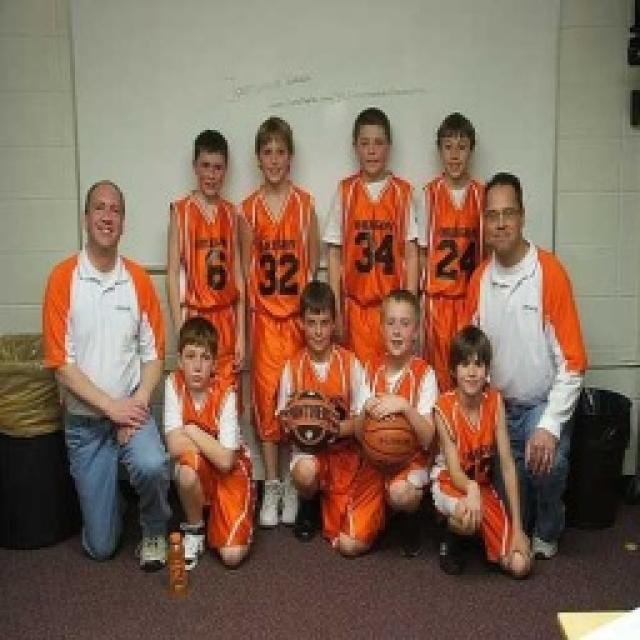basketball: (279, 388, 344, 456), (359, 408, 422, 471)
